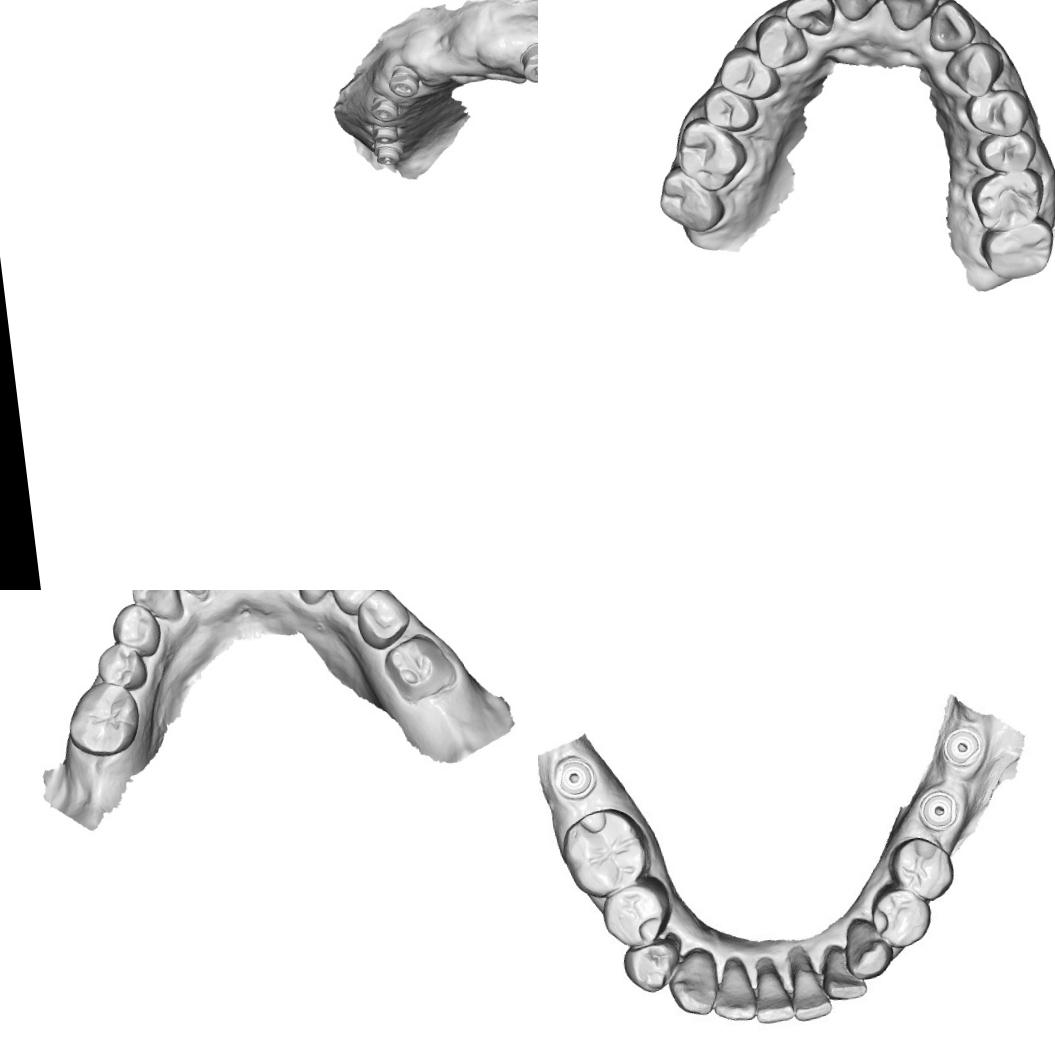canine: (666, 943, 724, 1020), (940, 37, 1008, 101), (839, 916, 896, 984), (751, 10, 811, 71), (127, 590, 186, 626), (292, 590, 344, 607)
implant: (546, 747, 601, 807), (913, 784, 968, 842), (940, 724, 990, 772), (386, 63, 420, 101), (367, 94, 401, 126), (369, 122, 402, 147)
implant_minus: (370, 140, 408, 168), (517, 39, 538, 86)
incisor: (784, 944, 834, 1025), (816, 938, 868, 1008), (709, 958, 756, 1026), (750, 958, 796, 1026), (924, 0, 978, 56), (782, 0, 839, 39), (878, 0, 944, 33), (824, 0, 887, 25)
molar: (559, 802, 654, 902), (62, 676, 146, 762), (672, 111, 752, 195), (379, 630, 459, 706), (654, 160, 730, 239), (967, 166, 1050, 234), (978, 218, 1055, 283)
premolar: (884, 830, 958, 906), (598, 880, 672, 953), (868, 884, 938, 952), (618, 934, 686, 997), (716, 41, 783, 104), (961, 85, 1035, 141), (352, 590, 413, 652), (108, 600, 166, 661), (973, 126, 1041, 178), (700, 80, 761, 136), (94, 638, 150, 695), (327, 590, 386, 619)
